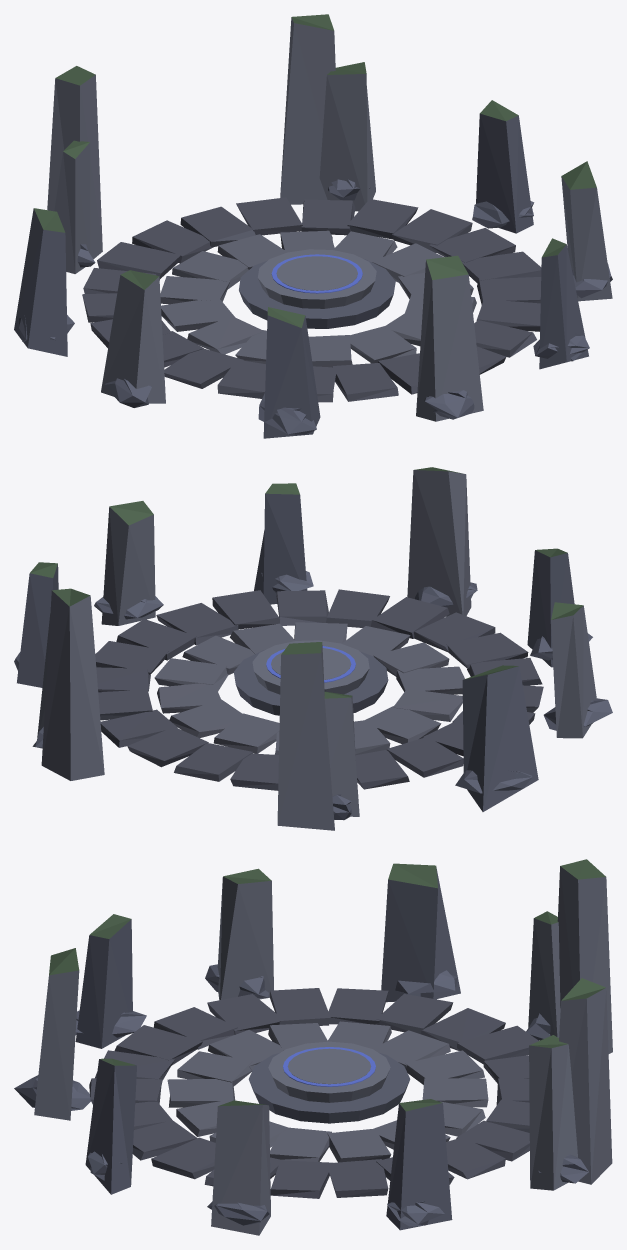
File: rain-oath-ring.glb
3 renders of one model, top to bottom at view 1: azimuth 30°, elevation 25°; view 2: azimuth 150°, elevation 25°; view 3: azimuth 270°, elevation 25°, orthographic. The views are drawn at different scales.
Parts seen in each view (by area): view 1: rain-oath-ring; view 2: rain-oath-ring; view 3: rain-oath-ring.
Boxes of the visible parts, box(x1,y1,x2,y2) form: rain-oath-ring: box(14, 14, 612, 438); rain-oath-ring: box(14, 467, 612, 830); rain-oath-ring: box(14, 859, 612, 1235).
Size of the model in its own units: 12.48 by 4.22 by 12.22.
